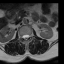CCS_normal: (25, 32, 27, 42)
LFS_normal: (29, 32, 31, 40)
LLS_normal: (27, 32, 29, 40)
RFS_normal: (20, 33, 22, 40)
RLS_normal: (22, 32, 25, 41)
